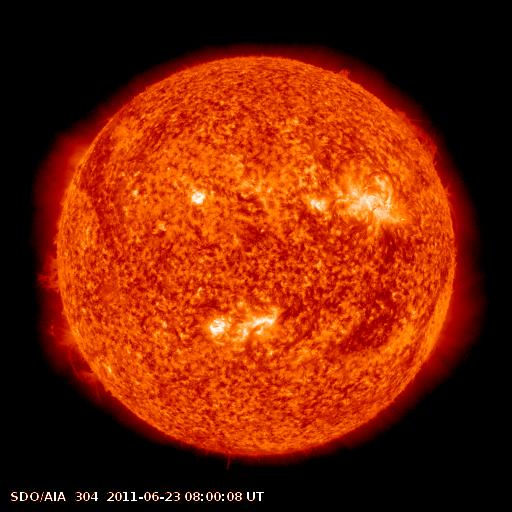prominence: (43, 315, 117, 401), (379, 94, 443, 160), (33, 220, 78, 301), (327, 55, 360, 87)
